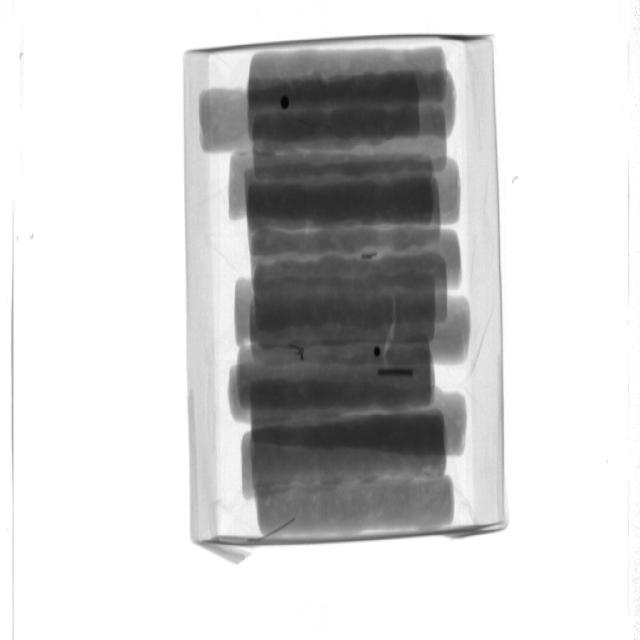ym: (261, 520, 295, 545), (380, 369, 415, 380), (290, 348, 305, 361), (361, 250, 380, 260), (281, 97, 291, 111), (375, 348, 383, 357)
